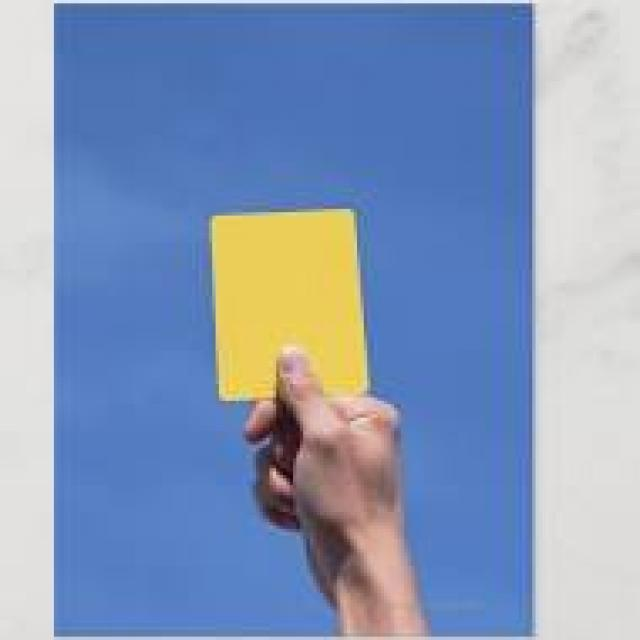yellow-card: (204, 205, 436, 640)
